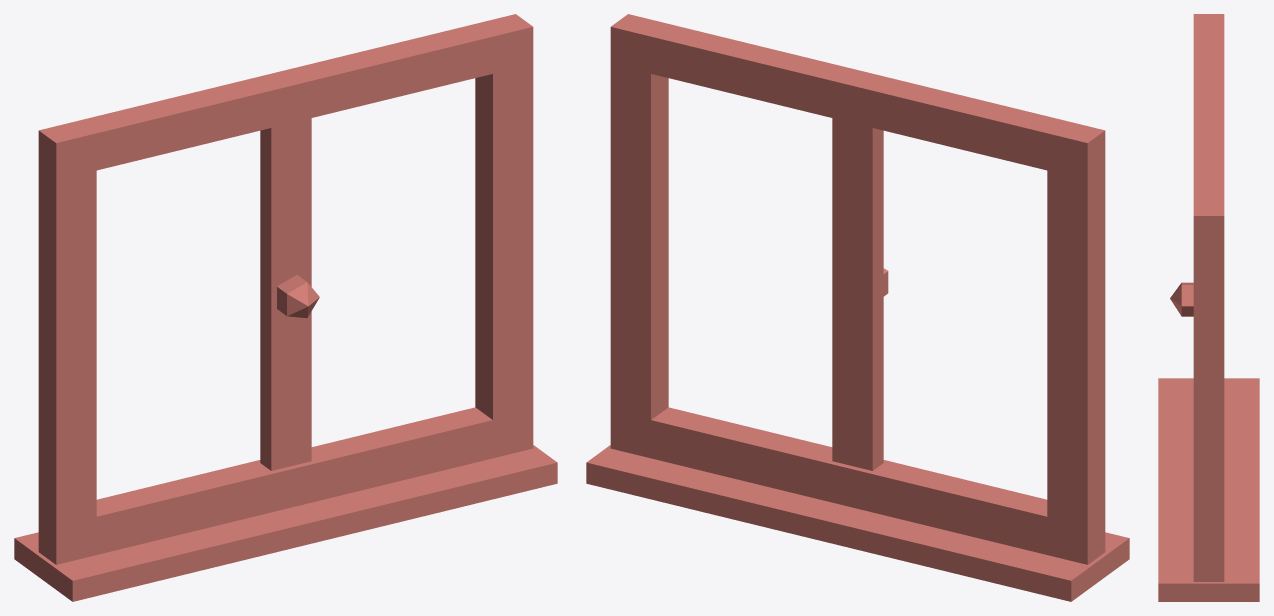
The model's file is Window_1F.fbx.
3 views of the same model, side by side, from view 1: azimuth 30°, elevation 25°; view 2: azimuth 150°, elevation 25°; view 3: azimuth 270°, elevation 25° (orthographic). The views are drawn at different scales.
Visible parts, largest first — view 1: polySurface1633; view 2: polySurface1633; view 3: polySurface1633.
Part boxes in pixels (box(x1,y1,x2,y2)): polySurface1633: box(14, 14, 557, 601); polySurface1633: box(586, 14, 1129, 601); polySurface1633: box(1158, 14, 1259, 601).
Size of the model in its own units: 2.4 by 2.09 by 0.5.
1 material, 1 textured.
